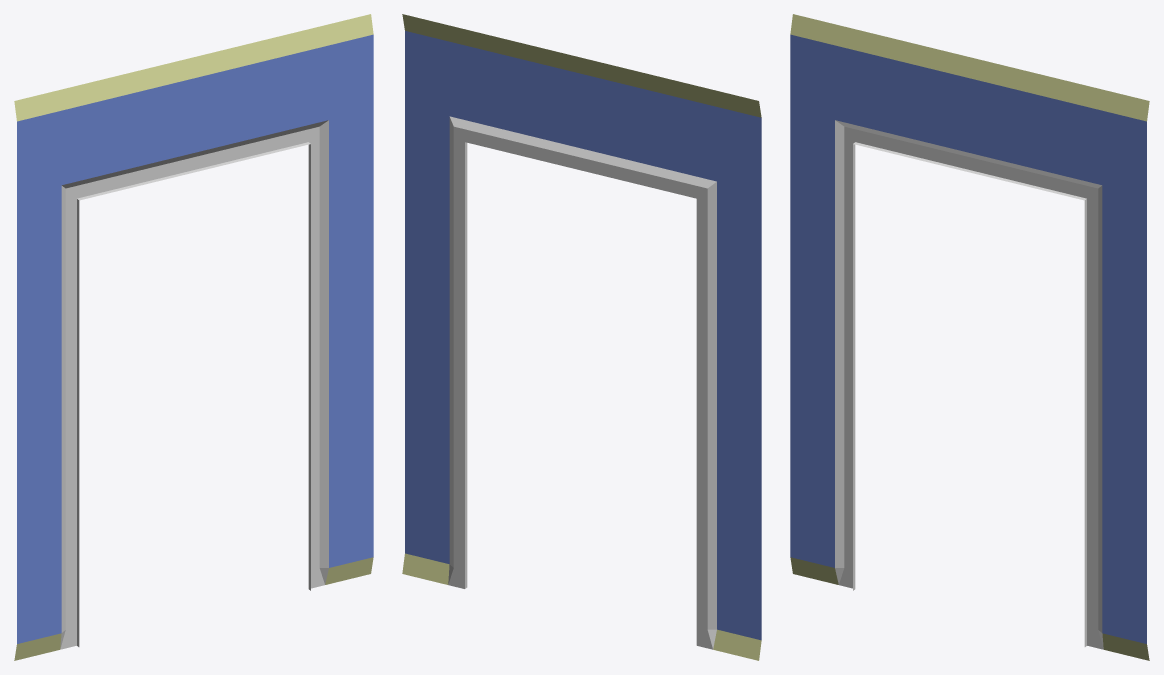
The model's file is DoorWall.fbx.
The picture shows the model from 3 angles, left to right: view 1: azimuth 30°, elevation 25°; view 2: azimuth 150°, elevation 25°; view 3: azimuth 330°, elevation 25°; orthographic projection.
Parts seen in each view (by area): view 1: WallDoor; view 2: WallDoor; view 3: WallDoor.
Part boxes in pixels (x1,y1,x2,y2): WallDoor: (14, 14, 373, 660); WallDoor: (402, 14, 761, 660); WallDoor: (790, 14, 1149, 660).
Size of the model in its own units: 200 by 300 by 2.5.
